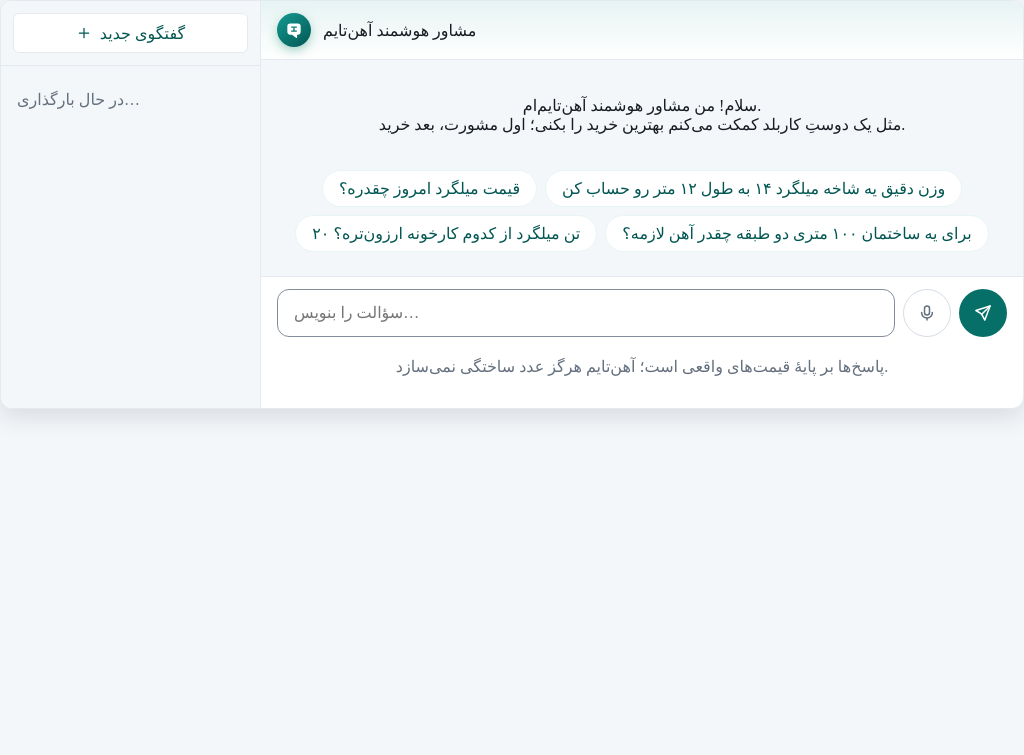
AdvisorChat — tool output arrives as UI, not as a paragraph › a card with no prose is still a complete answer
In the text box named "پیام به مشاور هوشمند": {"x": 586, "y": 313} [277,289,895,337], type "قیمت میلگرد چنده؟"
Then press Enter
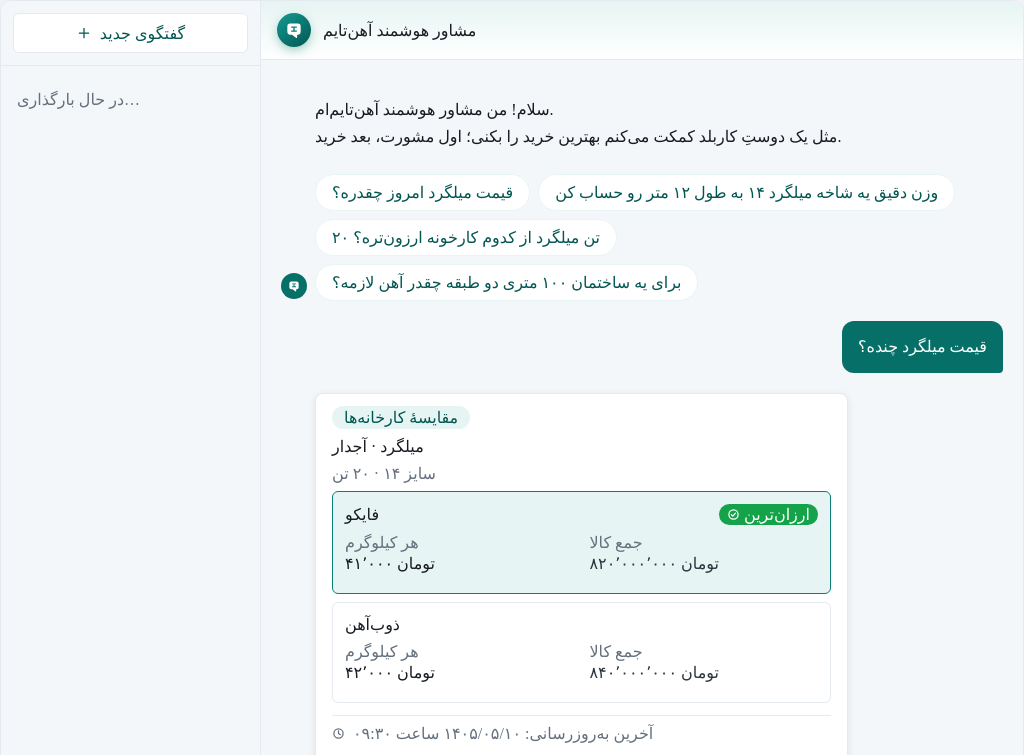
Expected: the text "مقایسهٔ کارخانه‌ها" is shown, [332,406,470,429]
